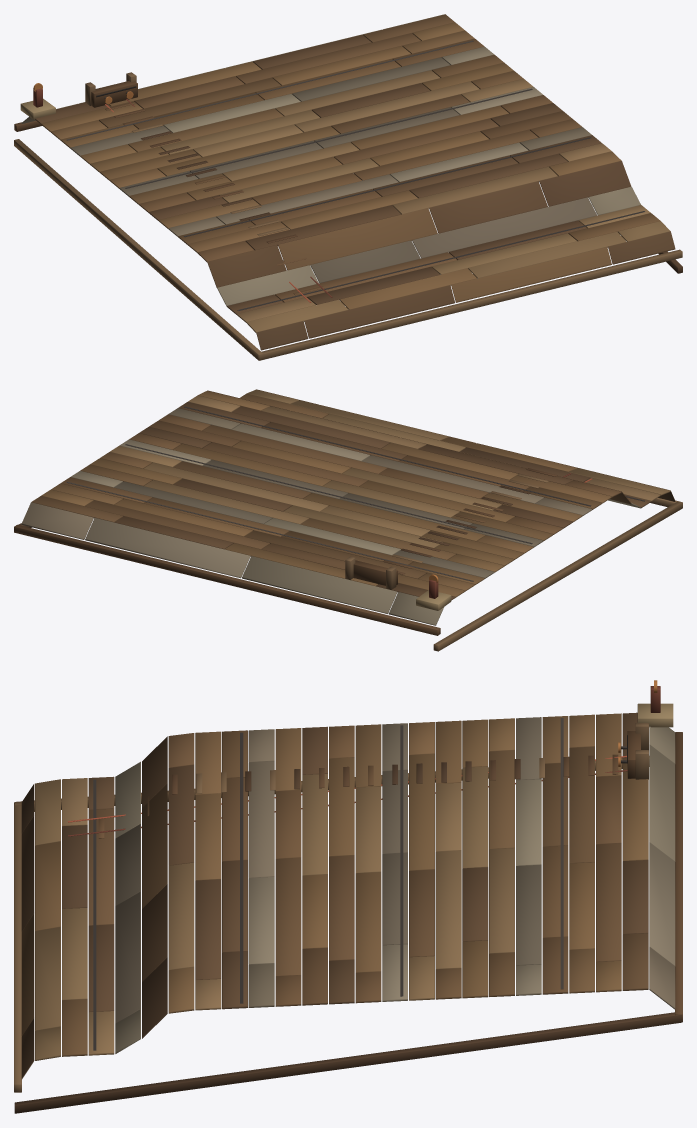
The model's file is islands_tram_head.glb.
The picture shows the model from 3 angles, top to bottom: view 1: azimuth 30°, elevation 25°; view 2: azimuth 150°, elevation 25°; view 3: azimuth 270°, elevation 25°; orthographic projection. The views are drawn at different scales.
Visible parts, largest first — view 1: islands_tram_head; view 2: islands_tram_head; view 3: islands_tram_head.
Boxes of the visible parts, x1,y1,x2,y2 form: islands_tram_head: (14, 14, 682, 360); islands_tram_head: (14, 389, 682, 651); islands_tram_head: (14, 680, 682, 1113).
Size of the model in its own units: 30.06 by 7.94 by 30.06.
